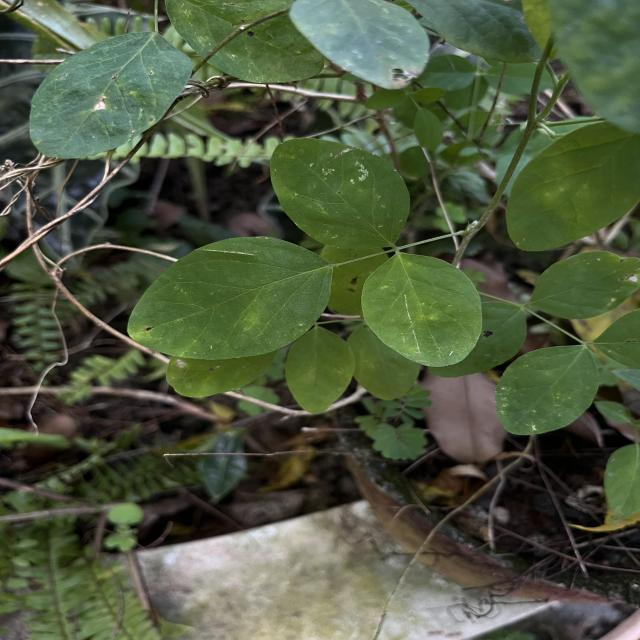Clitoria ternatea: (126, 235, 337, 362), (268, 136, 412, 252), (360, 252, 483, 368), (494, 344, 600, 436)
